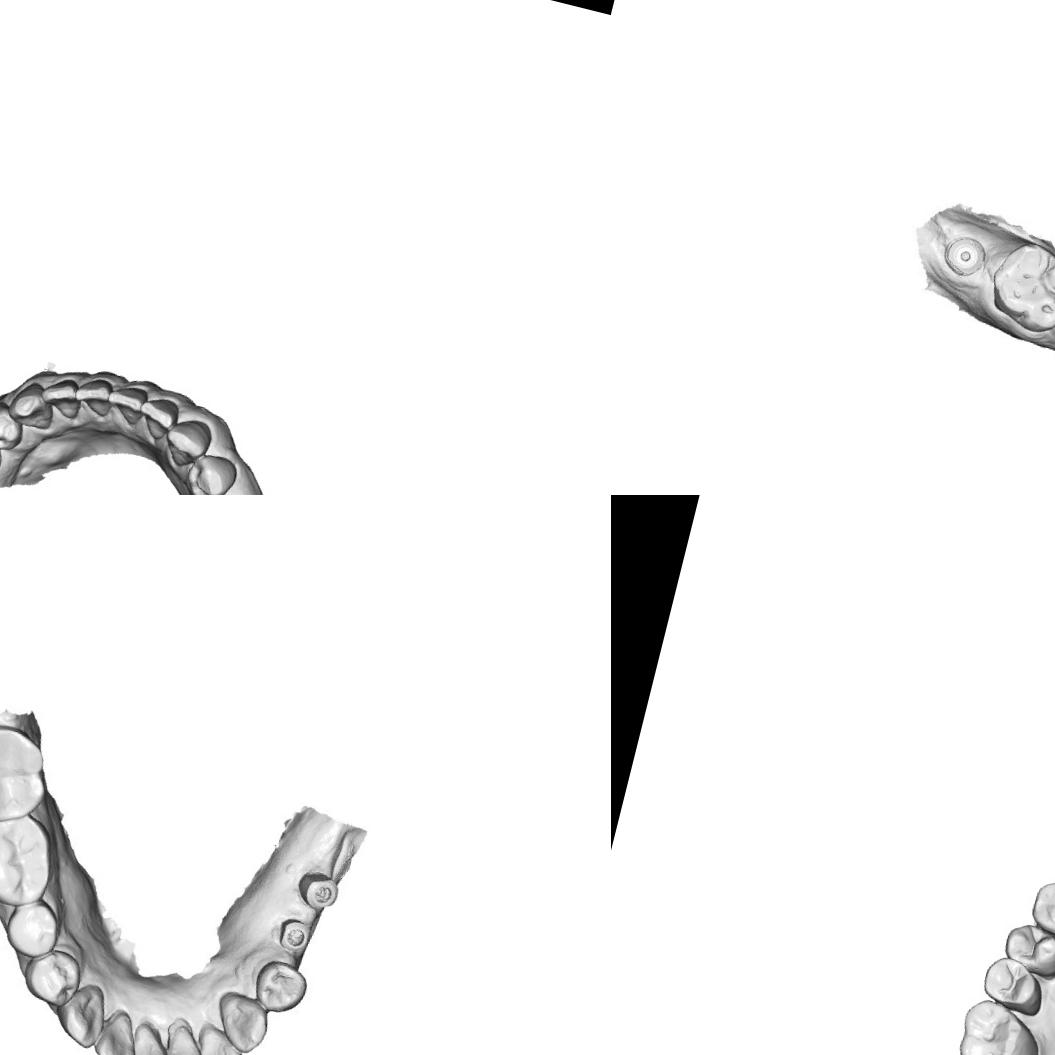canine: (205, 985, 275, 1055), (50, 980, 114, 1052), (158, 412, 213, 472), (4, 378, 59, 433), (1023, 875, 1055, 946)
implant: (936, 226, 991, 287), (288, 864, 346, 920), (270, 913, 319, 960)
incisor: (84, 1007, 145, 1055), (134, 390, 182, 446), (36, 370, 86, 422), (70, 372, 119, 422), (103, 378, 149, 429), (156, 1021, 215, 1055), (188, 1024, 251, 1055), (123, 1023, 179, 1055)
molar: (981, 232, 1055, 341), (0, 710, 56, 832), (949, 993, 1050, 1055), (0, 809, 58, 913)
premolar: (975, 952, 1051, 1020), (1, 892, 66, 964), (246, 952, 314, 1020), (997, 917, 1055, 982), (20, 948, 82, 1006), (177, 447, 241, 495), (0, 393, 27, 456)
